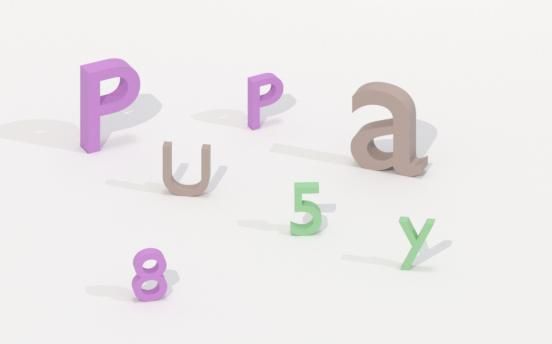5: (287, 178, 326, 243)
8: (130, 243, 172, 306)
Y: (397, 211, 436, 274)
a: (348, 77, 432, 182)
p: (77, 57, 147, 158), (242, 70, 289, 139)
u: (156, 137, 214, 198)
